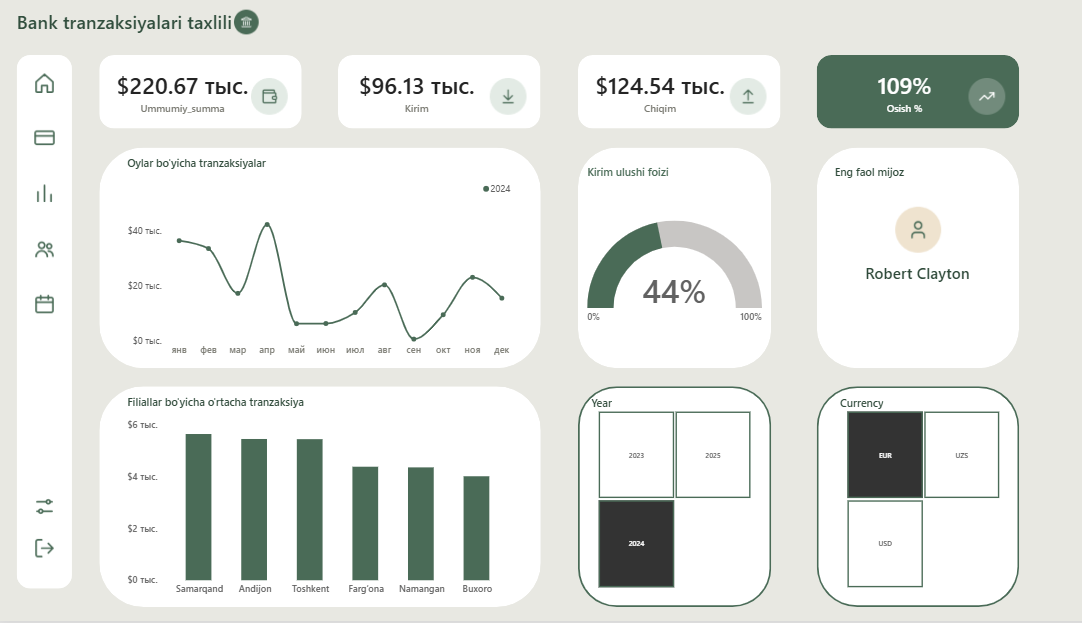

The dashboard page shown, as its layout file describes it:
{"tool":"powerbi","page":{"name":"tranzaksiya","canvas":[1920,1080],"ordinal":0},"visuals":[{"type":"textbox","box":[10,0,280,280],"z":0},{"type":"textbox","box":[32,16,384,48],"z":1000},{"type":"actionButton","box":[400,0,64,64],"z":2000},{"type":"shape","box":[32,96,96,928],"z":3000},{"type":"shape","box":[176,96,352,128],"z":4000},{"type":"shape","box":[592,96,352,128],"z":5000},{"type":"shape","box":[1008,96,352,128],"z":6000},{"type":"shape","box":[1424,96,352,128],"z":7000},{"type":"shape","box":[176,256,768,384],"z":8000},{"type":"shape","box":[1008,256,336,384],"z":9000},{"type":"shape","box":[176,672,768,384],"z":10000},{"type":"shape","box":[1424,256,352,384],"z":11000},{"type":"shape","box":[1008,672,336,384],"z":12000},{"type":"shape","box":[1424,672,352,384],"z":13000},{"type":"actionButton","box":[32,96,96,96],"z":14000},{"type":"actionButton","box":[32,192,96,96],"z":15000},{"type":"actionButton","box":[32,288,96,96],"z":16000},{"type":"actionButton","box":[32,384,96,96],"z":17000},{"type":"actionButton","box":[32,480,96,96],"z":18000},{"type":"actionButton","box":[32,832,96,96],"z":19000},{"type":"actionButton","box":[32,912,96,80],"z":20000},{"type":"actionButton","box":[400,96,144,144],"z":21000},{"type":"card","fields":{"Values":["Measure.Ummumiy_summa"]},"box":[160,96,320,128],"z":22000},{"type":"actionButton","box":[816,96,144,144],"z":23000},{"type":"actionButton","box":[1648,96,144,144],"z":24000},{"type":"actionButton","box":[1232,96,144,144],"z":25000},{"type":"card","fields":{"Values":["Measure.Kirim"]},"box":[576,96,304,128],"z":26000},{"type":"card","fields":{"Values":["Measure.Chiqim"]},"box":[992,96,320,128],"z":27000},{"type":"card","fields":{"Values":["Measure.Osish %"]},"box":[1456,96,240,128],"z":28000},{"type":"lineChart","title":"Oylar bo''yicha tranzaksiyalar","fields":{"Category":["Calendar.Month"],"Series":["Calendar.Year"],"Y":["Measure.Ummumiy_summa"]},"box":[208,256,704,384],"z":29000},{"type":"columnChart","title":"Filiallar bo''yicha o''rtacha tranzaksiya","fields":{"Category":["bank_tranzaksiya.Branch"],"Y":["Measure.Ortacha_tranzaksiya"]},"box":[208,672,704,384],"z":30000},{"type":"gauge","title":"Kirim ulushi foizi","fields":{"Y":["Measure.Kirim_ulushi"]},"box":[1008,272,336,368],"z":31000},{"type":"card","title":"Eng faol mijoz","fields":{"Values":["Measure.Eng_faol_mijoz"]},"box":[1440,272,320,368],"z":32000},{"type":"actionButton","box":[1504,320,192,160],"z":33000},{"type":"slicer","fields":{"Values":["Calendar.Year"]},"box":[1024,688,304,336],"z":34000},{"type":"slicer","fields":{"Values":["bank_tranzaksiya.Currency"]},"box":[1456,688,304,336],"z":35000}]}

Visuals, with their boxes in screenshot pixels (x1, y1, x2, y2), scaled from the page's 1920x1080 canvas onto the 1082x623 screenshot:
textbox: <bbox>6, 0, 163, 162</bbox>
textbox: <bbox>18, 9, 234, 37</bbox>
actionButton: <bbox>225, 0, 261, 37</bbox>
shape: <bbox>18, 55, 72, 591</bbox>
shape: <bbox>99, 55, 298, 129</bbox>
shape: <bbox>334, 55, 532, 129</bbox>
shape: <bbox>568, 55, 766, 129</bbox>
shape: <bbox>802, 55, 1001, 129</bbox>
shape: <bbox>99, 148, 532, 369</bbox>
shape: <bbox>568, 148, 757, 369</bbox>
shape: <bbox>99, 388, 532, 609</bbox>
shape: <bbox>802, 148, 1001, 369</bbox>
shape: <bbox>568, 388, 757, 609</bbox>
shape: <bbox>802, 388, 1001, 609</bbox>
actionButton: <bbox>18, 55, 72, 111</bbox>
actionButton: <bbox>18, 111, 72, 166</bbox>
actionButton: <bbox>18, 166, 72, 222</bbox>
actionButton: <bbox>18, 222, 72, 277</bbox>
actionButton: <bbox>18, 277, 72, 332</bbox>
actionButton: <bbox>18, 480, 72, 535</bbox>
actionButton: <bbox>18, 526, 72, 572</bbox>
actionButton: <bbox>225, 55, 307, 138</bbox>
card - Measure.Ummumiy_summa: <bbox>90, 55, 270, 129</bbox>
actionButton: <bbox>460, 55, 541, 138</bbox>
actionButton: <bbox>929, 55, 1010, 138</bbox>
actionButton: <bbox>694, 55, 775, 138</bbox>
card - Measure.Kirim: <bbox>325, 55, 496, 129</bbox>
card - Measure.Chiqim: <bbox>559, 55, 739, 129</bbox>
card - Measure.Osish %: <bbox>821, 55, 956, 129</bbox>
"Oylar bo''yicha tranzaksiyalar" lineChart: <bbox>117, 148, 514, 369</bbox>
"Filiallar bo''yicha o''rtacha tranzaksiya" columnChart: <bbox>117, 388, 514, 609</bbox>
"Kirim ulushi foizi" gauge: <bbox>568, 157, 757, 369</bbox>
"Eng faol mijoz" card: <bbox>812, 157, 992, 369</bbox>
actionButton: <bbox>848, 185, 956, 277</bbox>
slicer - Calendar.Year: <bbox>577, 397, 748, 591</bbox>
slicer - bank_tranzaksiya.Currency: <bbox>821, 397, 992, 591</bbox>
